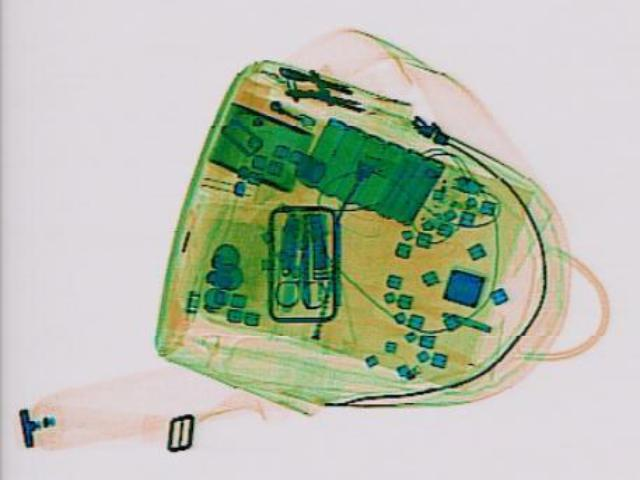Scissors: (272, 230, 332, 306)
